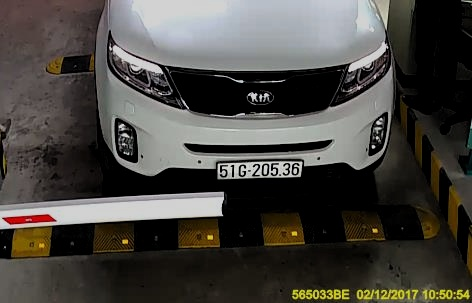plate: (213, 156, 302, 181)
